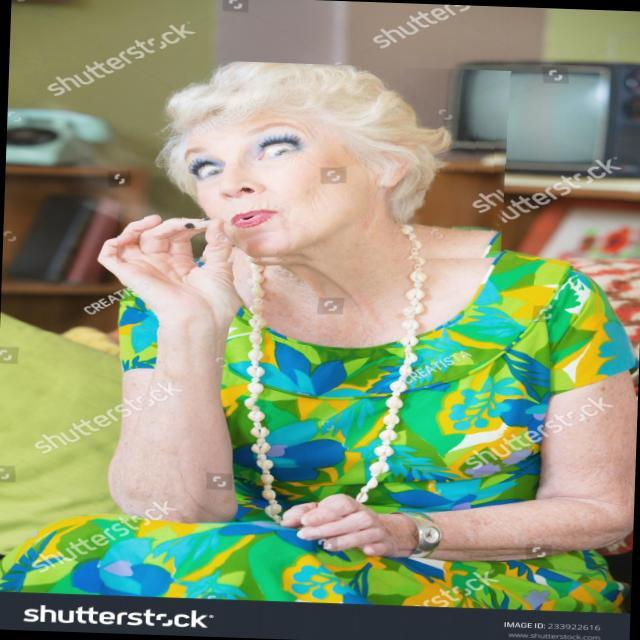cigarette: (174, 207, 244, 247)
